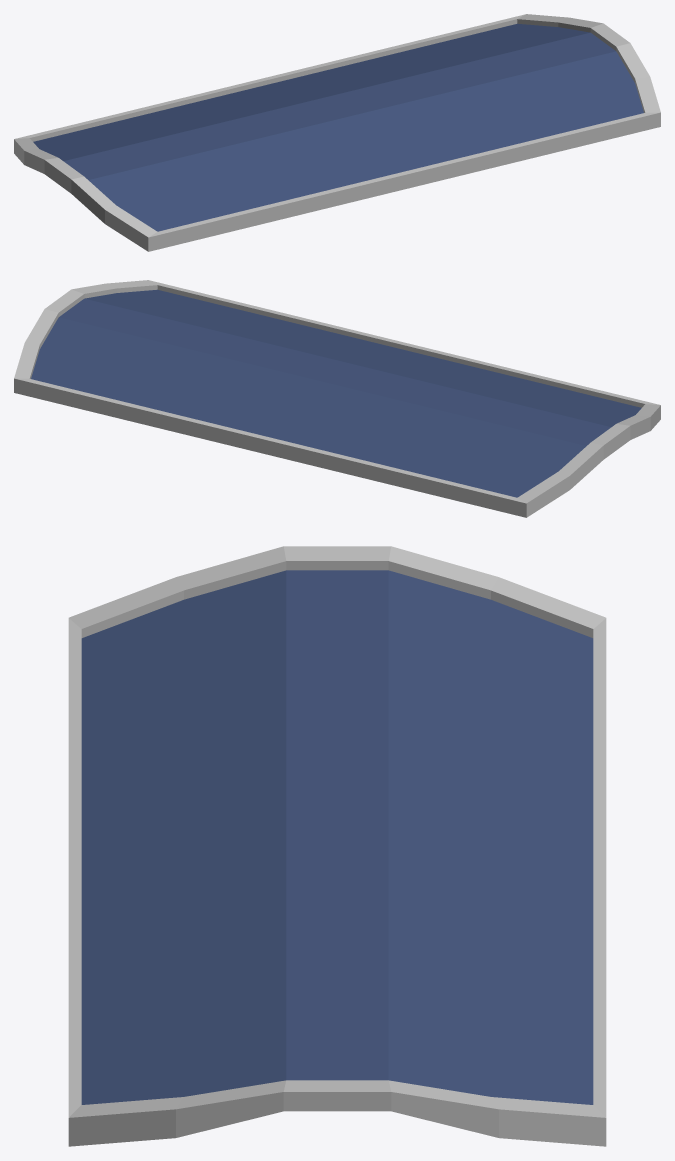
Rendered from Shield_2_a_bl.fbx.
The picture shows the model from 3 angles, top to bottom: view 1: azimuth 30°, elevation 25°; view 2: azimuth 150°, elevation 25°; view 3: azimuth 270°, elevation 25°; orthographic projection. The views are drawn at different scales.
Parts seen in each view (by area): view 1: Plane.193, Plane.192; view 2: Plane.193, Plane.192; view 3: Plane.193, Plane.192.
Part boxes in pixels (box(x1,y1,x2,y2)): Plane.193: box(33, 23, 643, 231); Plane.192: box(14, 14, 660, 251); Plane.193: box(31, 289, 641, 497); Plane.192: box(14, 280, 660, 517); Plane.193: box(81, 570, 593, 1104); Plane.192: box(68, 546, 606, 1146).
Size of the model in its own units: 126 by 14.33 by 52.54.
